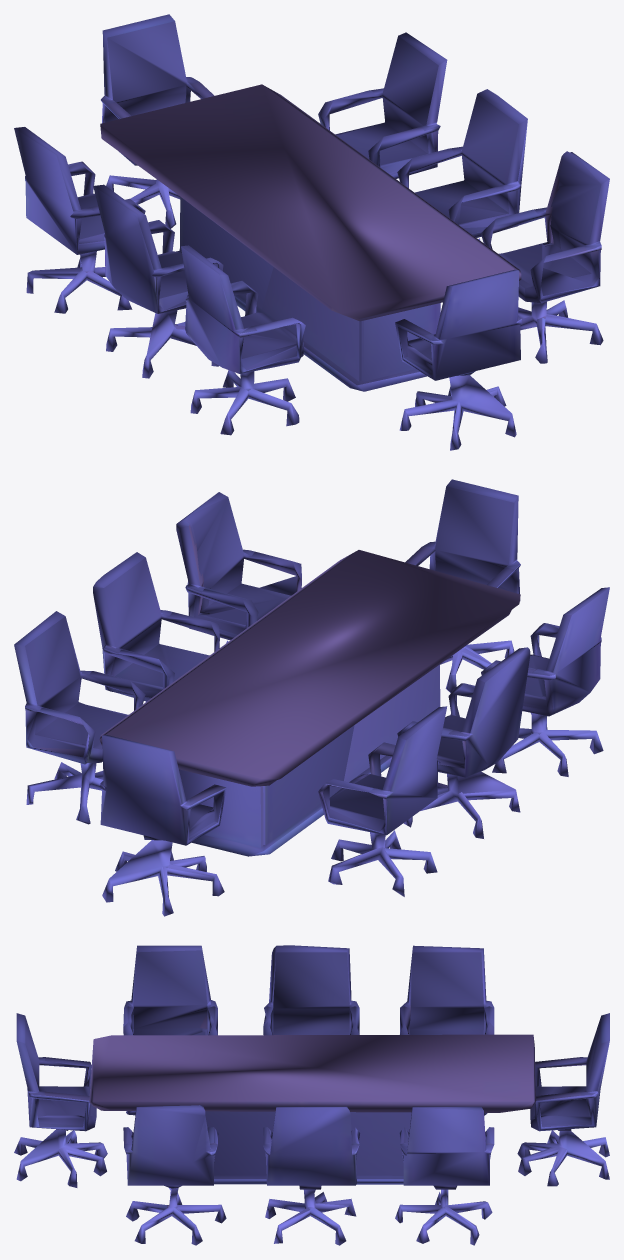
The model's file is model.progressive.glb.
The picture shows the model from 3 angles, top to bottom: view 1: azimuth 30°, elevation 25°; view 2: azimuth 150°, elevation 25°; view 3: azimuth 270°, elevation 25°; orthographic projection. The views are drawn at different scales.
Visible parts, largest first — view 1: texture_pbr_20250901; view 2: texture_pbr_20250901; view 3: texture_pbr_20250901.
Boxes of the visible parts, box(x1,y1,x2,y2) form: texture_pbr_20250901: box(14, 14, 609, 450); texture_pbr_20250901: box(14, 479, 609, 916); texture_pbr_20250901: box(14, 945, 609, 1245).
Size of the model in its own units: 1.21 by 0.4903 by 1.87.
1 material, 1 textured.
